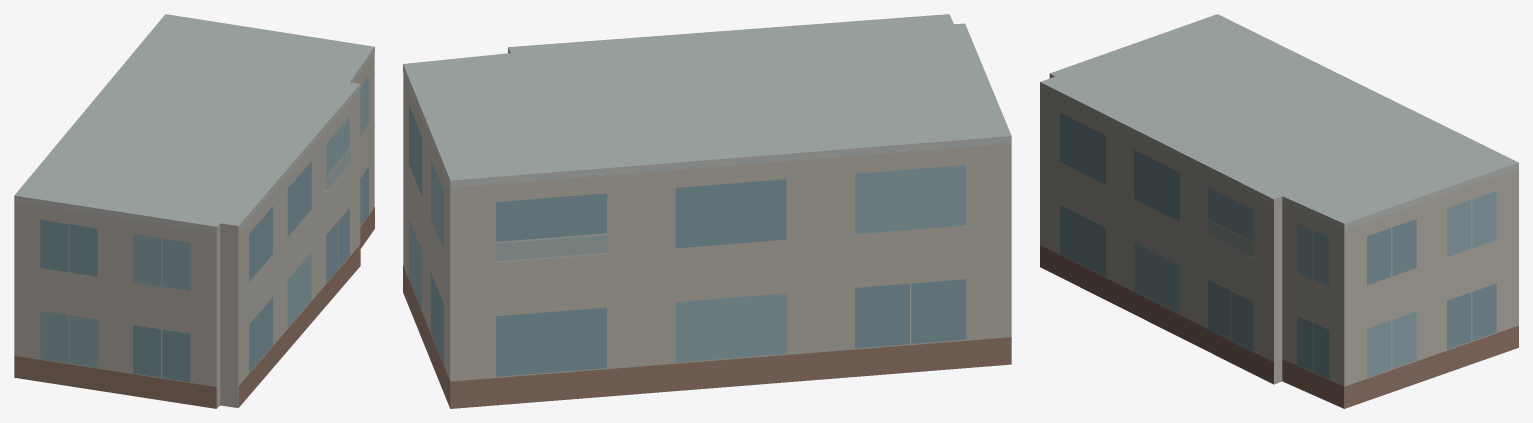
The model's file is survey-upis-32618770.glb.
3 views of the same model, side by side, from view 1: azimuth 30°, elevation 25°; view 2: azimuth 150°, elevation 25°; view 3: azimuth 270°, elevation 25° (orthographic). The views are drawn at different scales.
Parts seen in each view (by area): view 1: survey-upis-32618770.tmp; view 2: survey-upis-32618770.tmp; view 3: survey-upis-32618770.tmp.
Boxes of the visible parts, x1=… form: survey-upis-32618770.tmp: x1=14, y1=14, x2=374, y2=408; survey-upis-32618770.tmp: x1=403, y1=14, x2=1011, y2=408; survey-upis-32618770.tmp: x1=1040, y1=14, x2=1518, y2=408.
Bounding box in the file's own units: 18.48 × 7.6 × 17.82.
